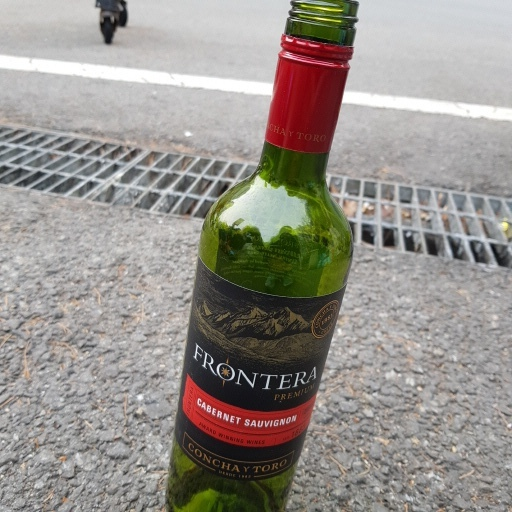Glass_2: (162, 1, 361, 512)
